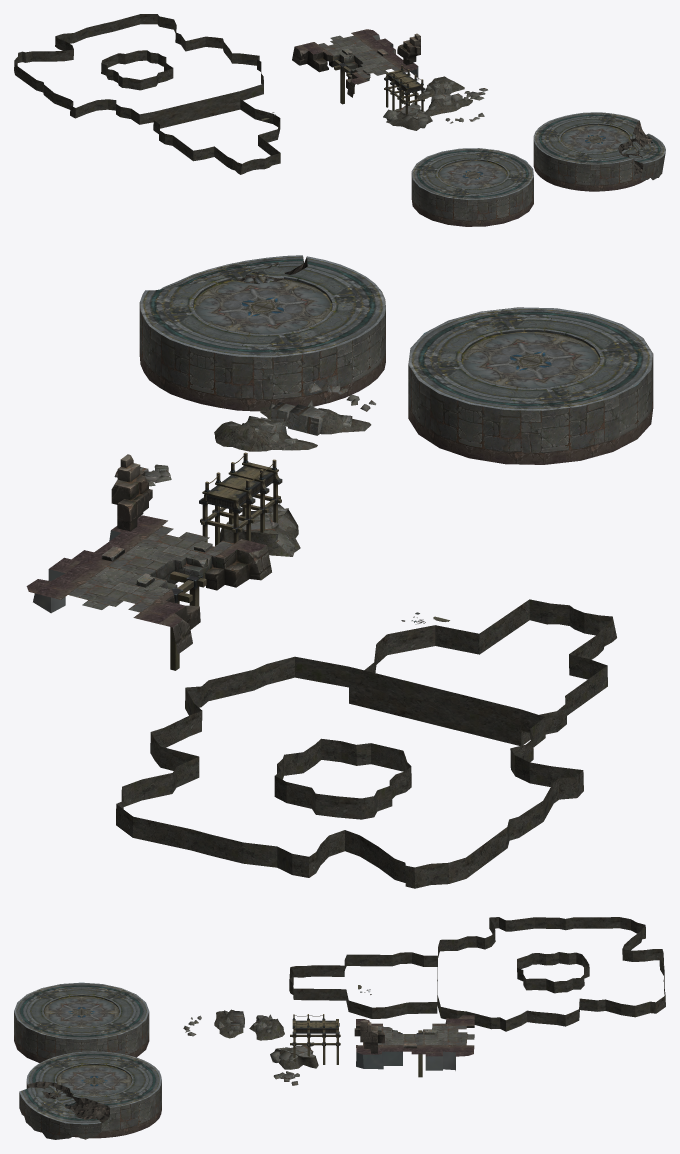
Rendered from f_1103_wujian.FBX.
3 views of the same model, one above another, from view 1: azimuth 30°, elevation 25°; view 2: azimuth 150°, elevation 25°; view 3: azimuth 270°, elevation 25° (orthographic). The views are drawn at different scales.
Parts seen in each view (by area): view 1: Object039, f_1103_stage09, f_1103_stage10, f_1103_qiao01, f_1103_stage12, f_1103_stage03, f_1103_stage06, f_1103_jiazi01, f_1103_stage05, f_1103_jiazi02, f_1103_qiao02; view 2: Object039, f_1103_stage09, f_1103_stage10, f_1103_qiao01, f_1103_jiazi01, f_1103_stage05, f_1103_stage06, f_1103_qiao02, f_1103_stage03, f_1103_jiazi02, f_1103_stage12, f_1103_qiao06; view 3: Object039, f_1103_stage09, f_1103_stage10, f_1103_qiao01, f_1103_stage12, f_1103_stage03, f_1103_jiazi01, f_1103_stage06, f_1103_stage05, f_1103_qiao02, f_1103_jiazi02.
Part boxes in pixels (x1,y1,x2,y2): Object039: (14,14,280,174); f_1103_stage09: (411,148,533,226); f_1103_stage10: (533,112,652,191); f_1103_qiao01: (292,29,418,97); f_1103_stage12: (628,133,665,180); f_1103_stage03: (383,102,432,130); f_1103_stage06: (424,93,472,116); f_1103_jiazi01: (384,65,425,94); f_1103_stage05: (417,76,464,99); f_1103_jiazi02: (384,80,424,115); f_1103_qiao02: (397,33,420,65); Object039: (116,599,616,888); f_1103_stage09: (408,307,653,464); f_1103_stage10: (139,256,385,411); f_1103_qiao01: (26,515,271,654); f_1103_jiazi01: (199,452,282,513); f_1103_stage05: (214,416,317,451); f_1103_stage06: (260,400,371,435); f_1103_qiao02: (111,454,152,531); f_1103_stage03: (220,504,300,556); f_1103_jiazi02: (200,483,281,545); f_1103_stage12: (160,255,303,289); f_1103_qiao06: (170,571,206,670); Object039: (289,917,665,1031); f_1103_stage09: (14,982,149,1062); f_1103_stage10: (26,1051,161,1138); f_1103_qiao01: (356,1015,474,1070); f_1103_stage12: (19,1087,101,1139); f_1103_stage03: (270,1042,318,1069); f_1103_jiazi01: (292,1014,339,1035); f_1103_stage06: (214,1009,244,1038); f_1103_stage05: (249,1014,284,1040); f_1103_qiao02: (354,1020,384,1053); f_1103_jiazi02: (290,1034,340,1064).
Bounding box in the file's own units: 5668 × 1013 × 7279.
